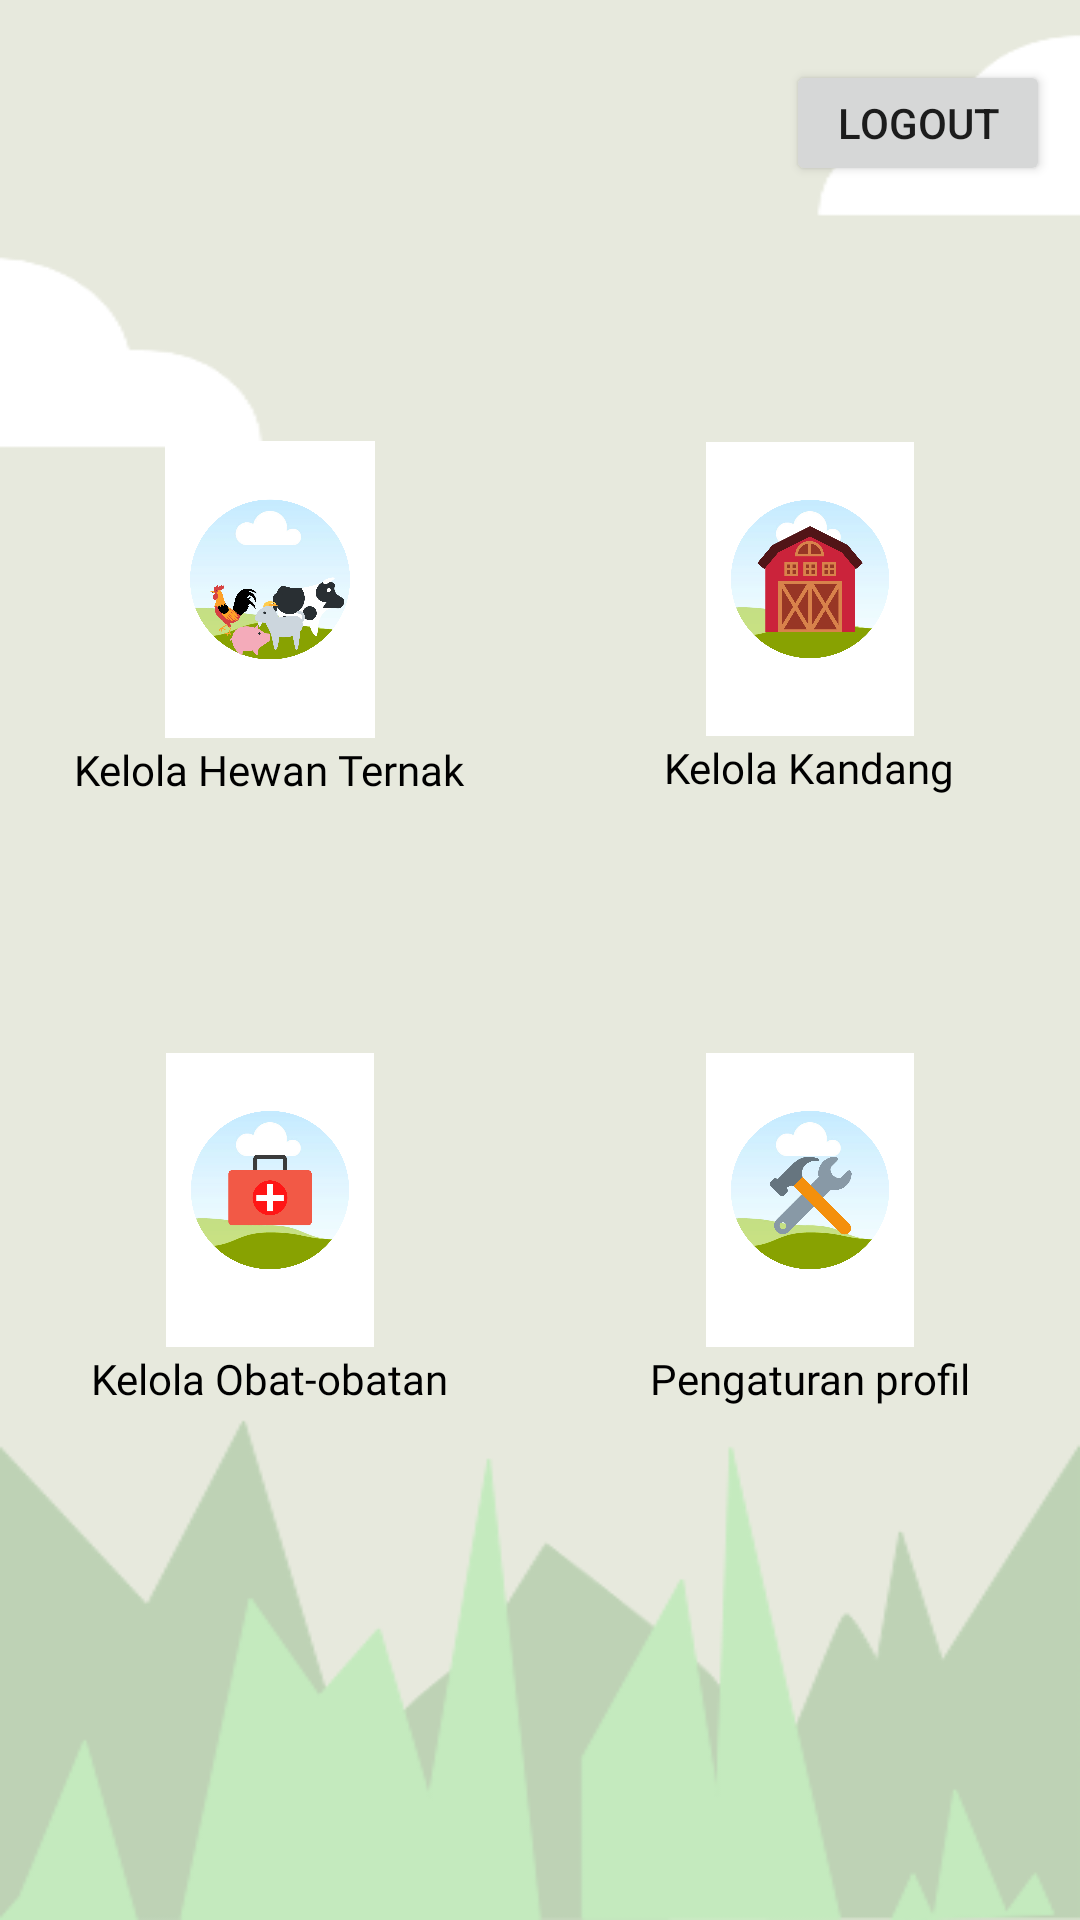

Named icons in this screenshot (1080 x 1920) and their bounding boxes, bbox=[x1, y1, x2, y2]:
banyak hewan: bbox=[120, 438, 375, 738]
medickit: bbox=[166, 1053, 374, 1347]
